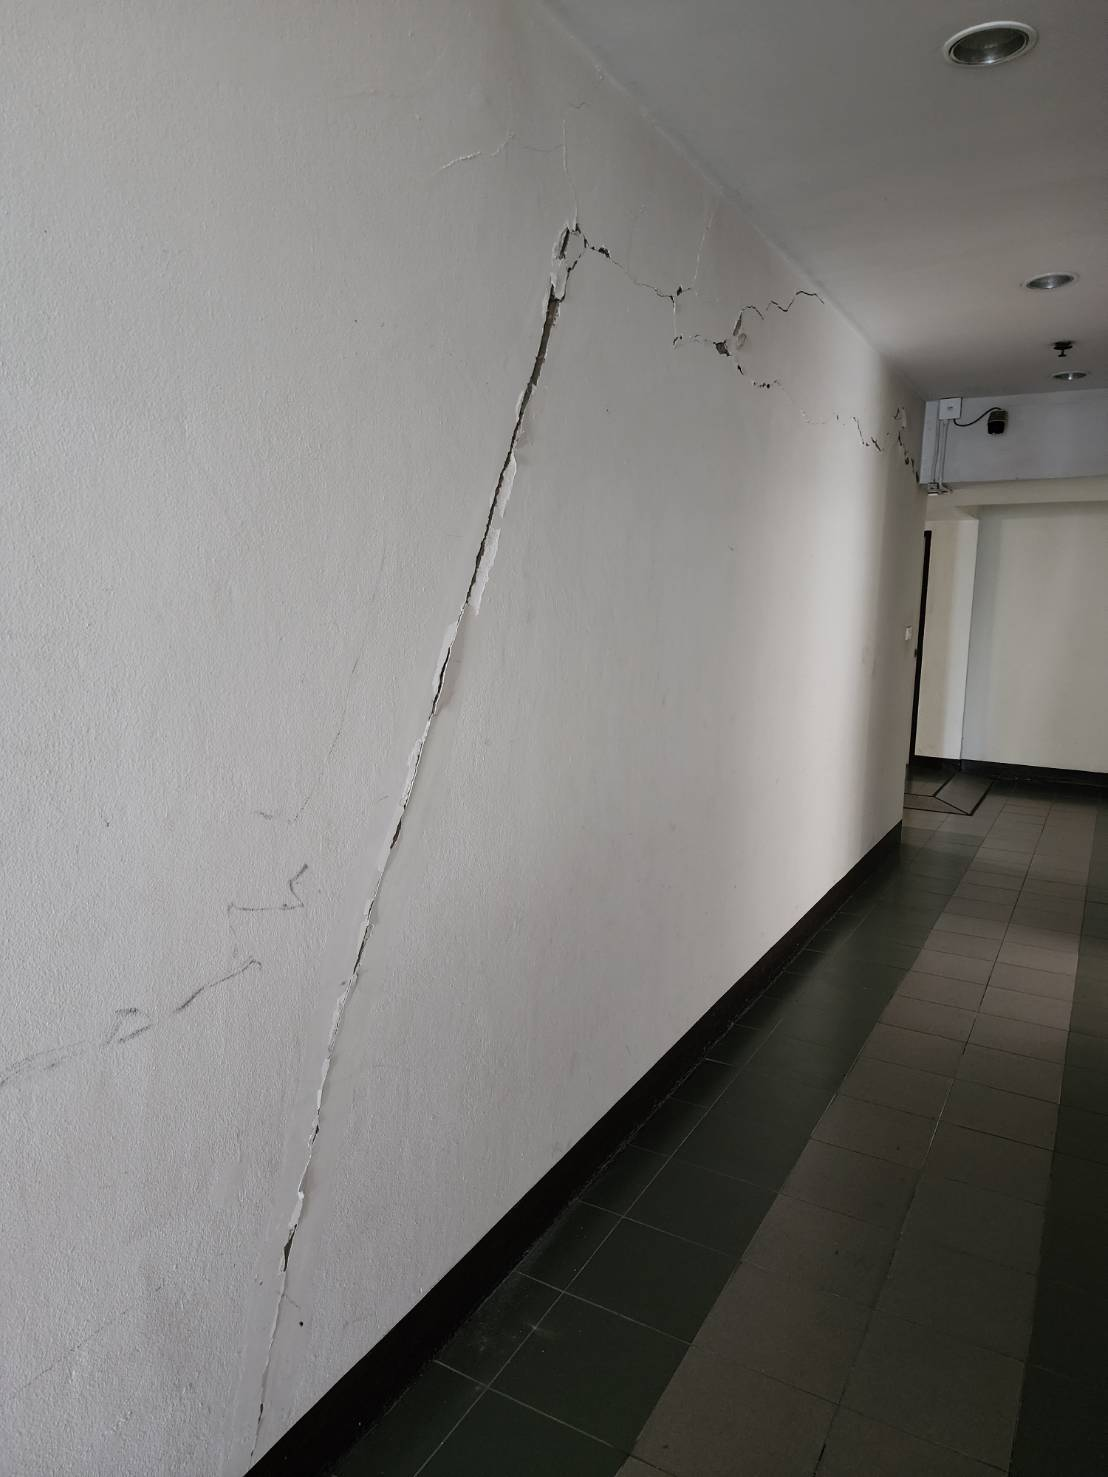Medium: (379, 175, 752, 679)
